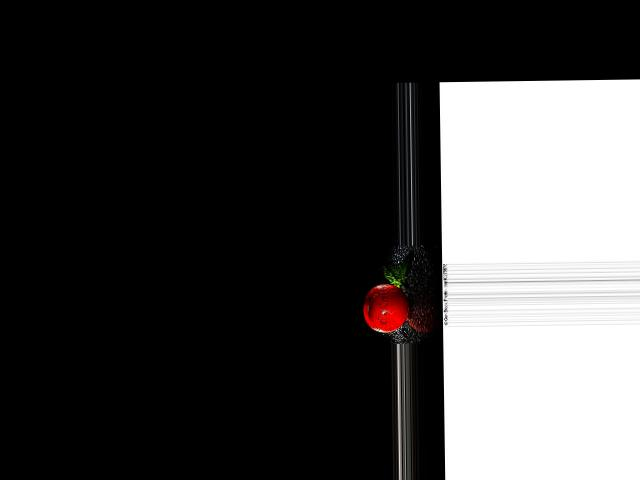tomato: (362, 283, 408, 332)
